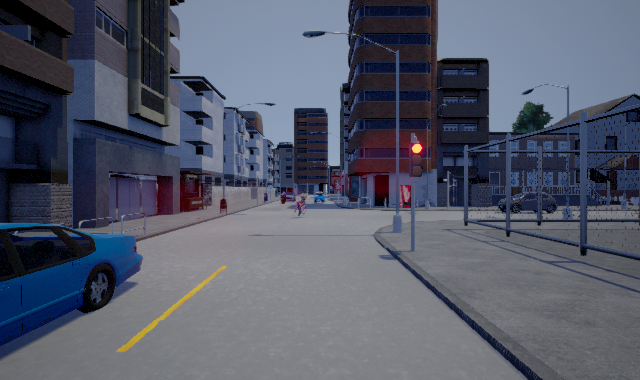bike: (291, 195, 309, 217)
traffic_light: (409, 141, 424, 176)
vehicle: (1, 223, 143, 346), (498, 189, 557, 212)
